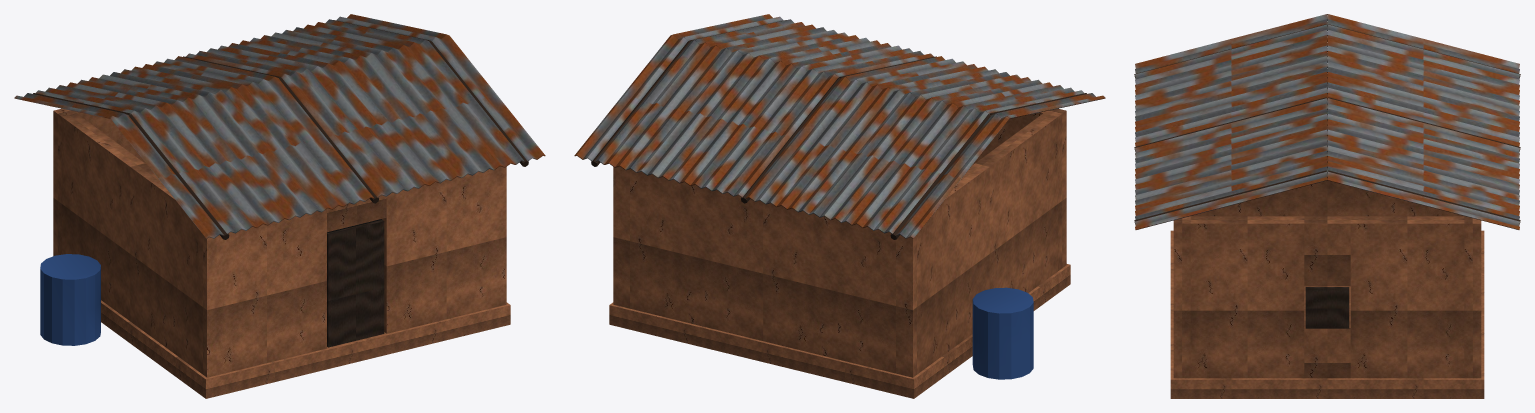
The model's file is az-hut-tin.glb.
The picture shows the model from 3 angles, left to right: view 1: azimuth 30°, elevation 25°; view 2: azimuth 150°, elevation 25°; view 3: azimuth 270°, elevation 25°; orthographic projection.
Parts seen in each view (by area): view 1: az-hut-tin_az_banco2, az-hut-tin_az_tin, az-hut-tin_az_wood_dark, az-hut-tin_az_bluetank; view 2: az-hut-tin_az_banco2, az-hut-tin_az_tin, az-hut-tin_az_bluetank, az-hut-tin_az_wood_dark; view 3: az-hut-tin_az_tin, az-hut-tin_az_banco2, az-hut-tin_az_wood_dark.
Boxes of the visible parts, x1,y1,x2,y2 form: az-hut-tin_az_banco2: (53,108,510,398); az-hut-tin_az_tin: (14,14,545,238); az-hut-tin_az_wood_dark: (33,20,528,347); az-hut-tin_az_bluetank: (40,254,100,345); az-hut-tin_az_banco2: (609,108,1070,398); az-hut-tin_az_tin: (574,14,1105,238); az-hut-tin_az_bluetank: (972,287,1033,379); az-hut-tin_az_wood_dark: (591,20,1086,239); az-hut-tin_az_tin: (1135,14,1519,229); az-hut-tin_az_banco2: (1170,84,1484,398); az-hut-tin_az_wood_dark: (1134,24,1520,328).
Size of the model in its own units: 5.75 by 3.29 by 5.03.
Materials: 5 (3 with a texture image).
